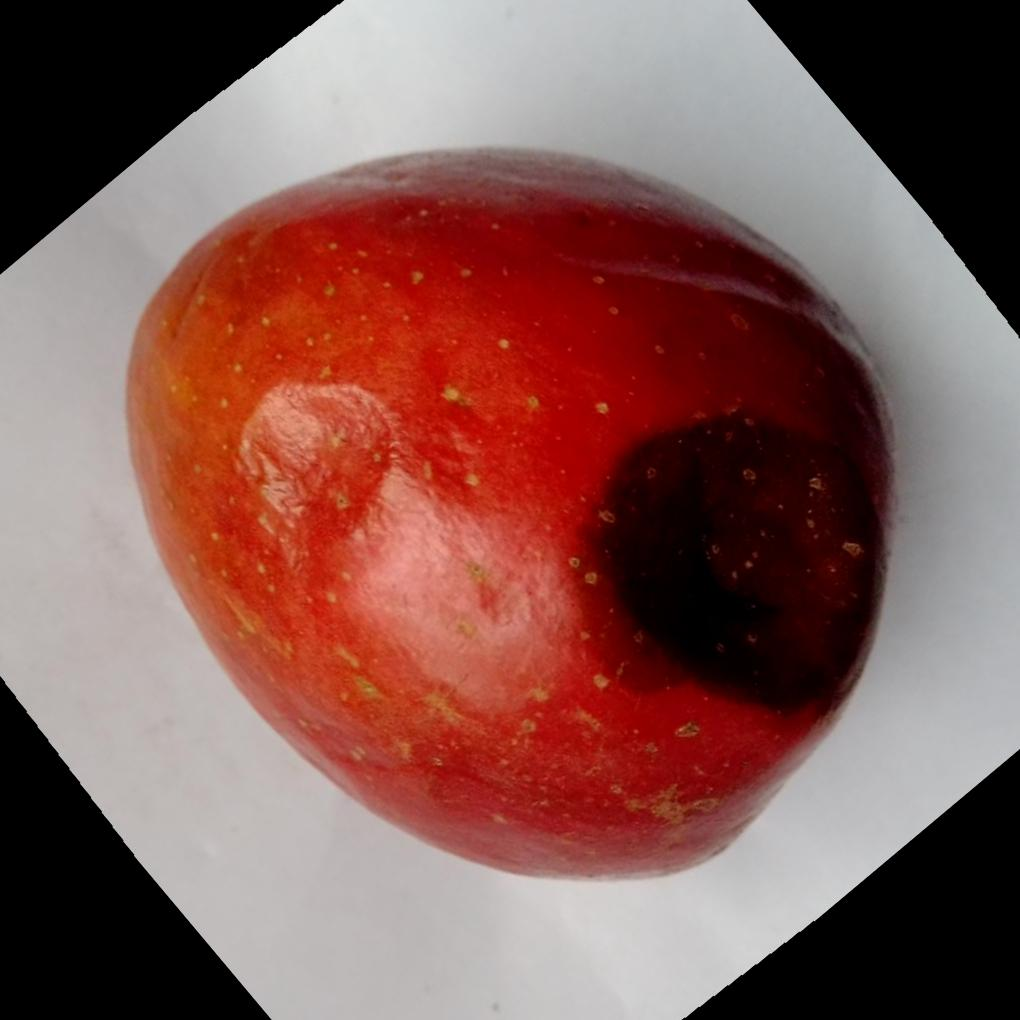FreshOrange: (124, 145, 898, 880)
